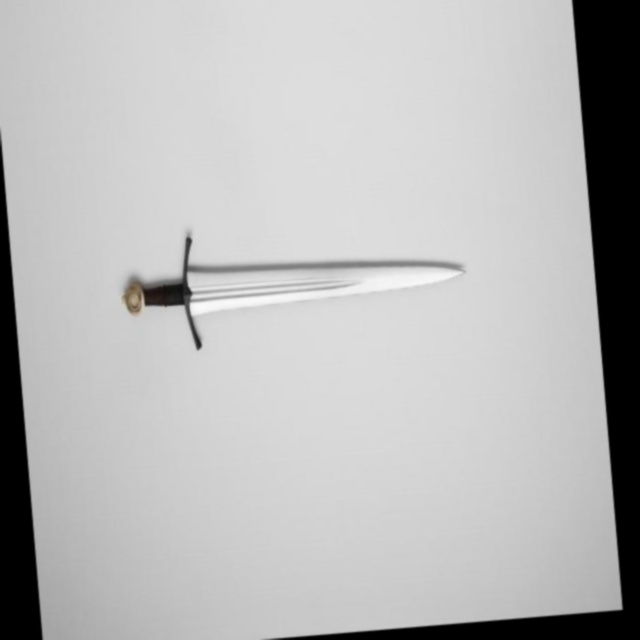Sharp-Object: (104, 235, 467, 331)
